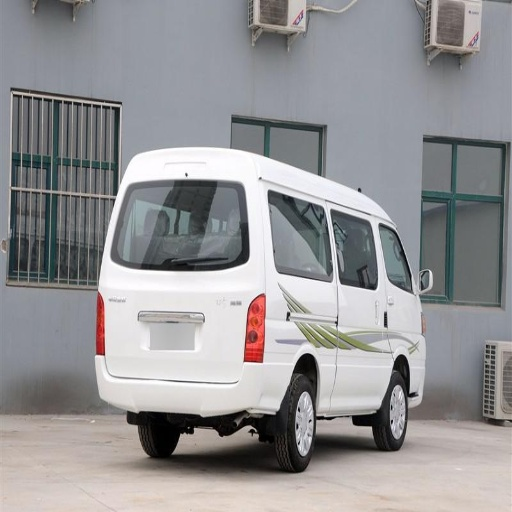back_bumper: (98, 353, 293, 417)
back_glass: (113, 181, 246, 269)
back_right_door: (262, 180, 330, 294)
trunk: (102, 270, 264, 382)
